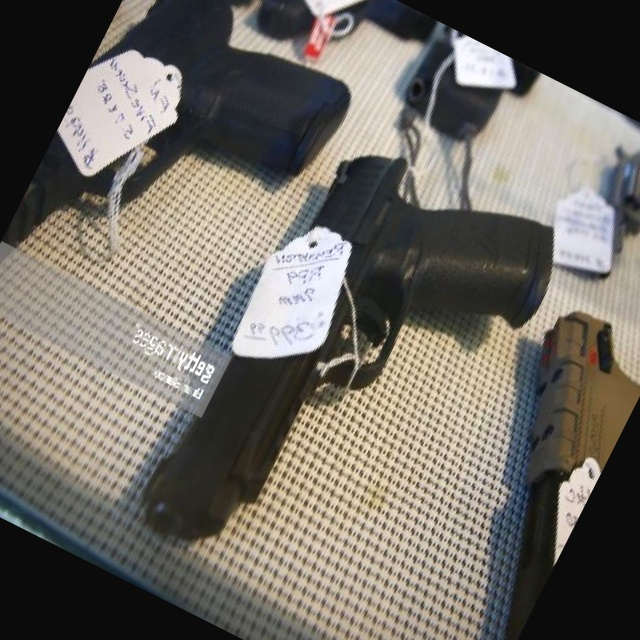gun: (139, 113, 583, 639)
